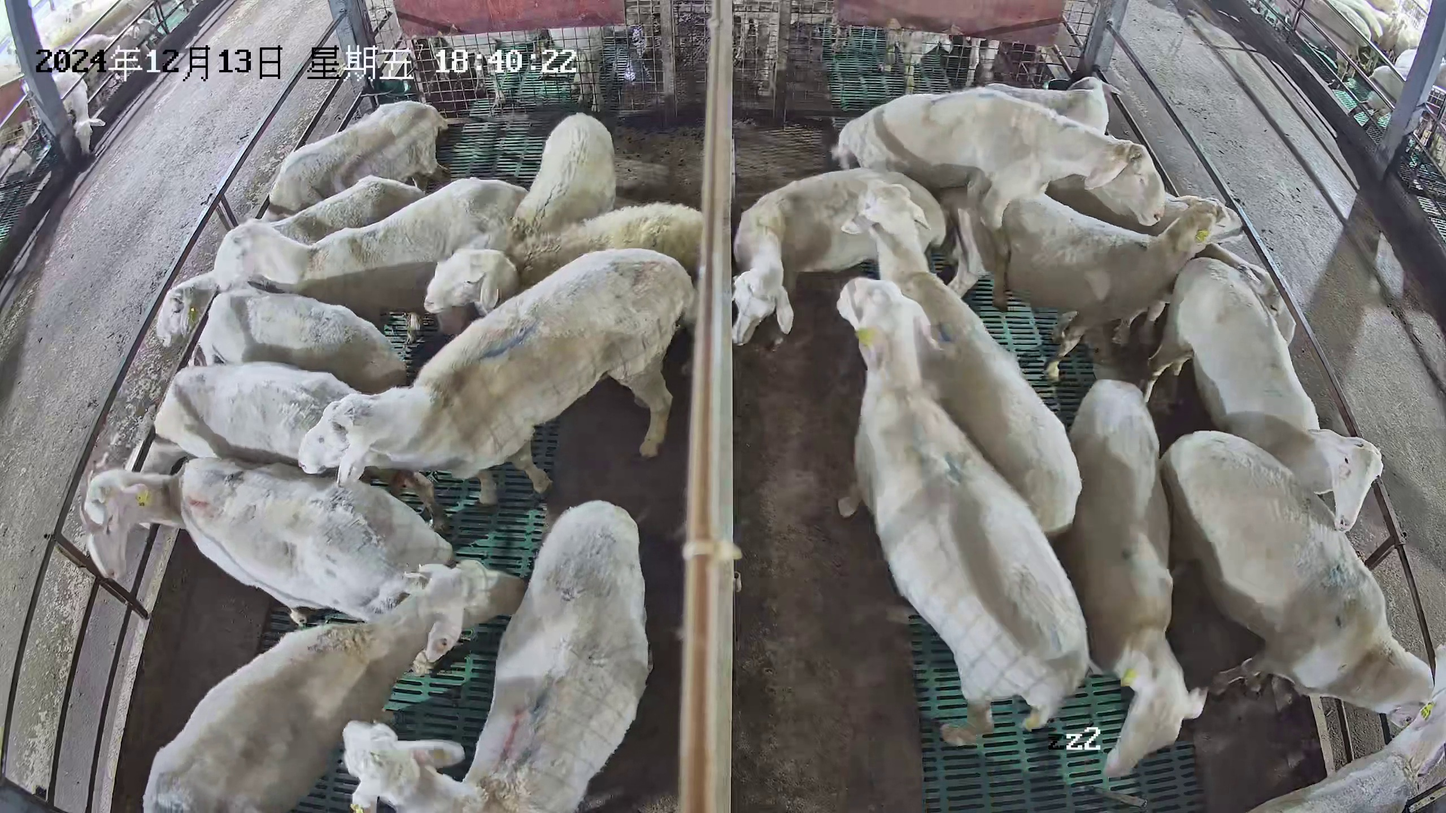Smounting: (831, 87, 1247, 386)
mounted: (933, 183, 1244, 383)
